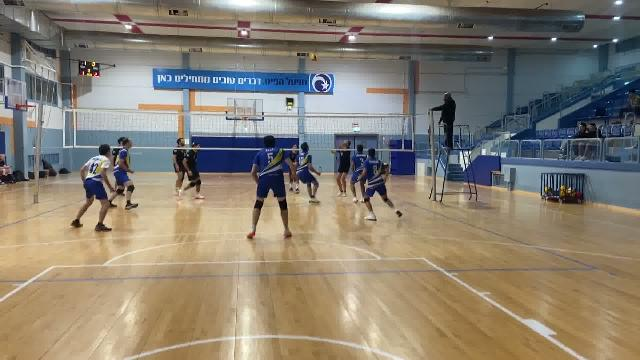ball: (308, 51, 321, 65)
